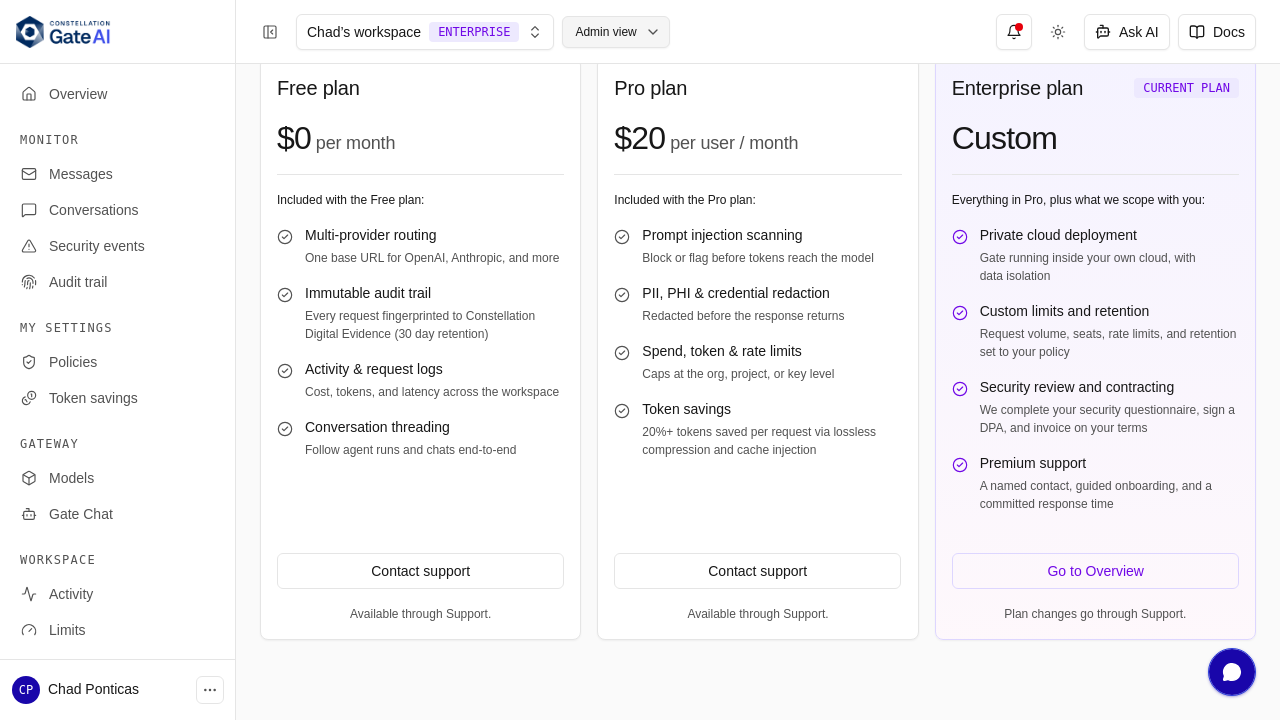
the buttons open a dialog rather than navigating › /billing-enterprise/plans: Contact support opens a dialog
(page scrolled)
Click the button "Contact support" below "Follow agent runs and chats end-to-end" at point(421, 571), box [277,553,564,589]
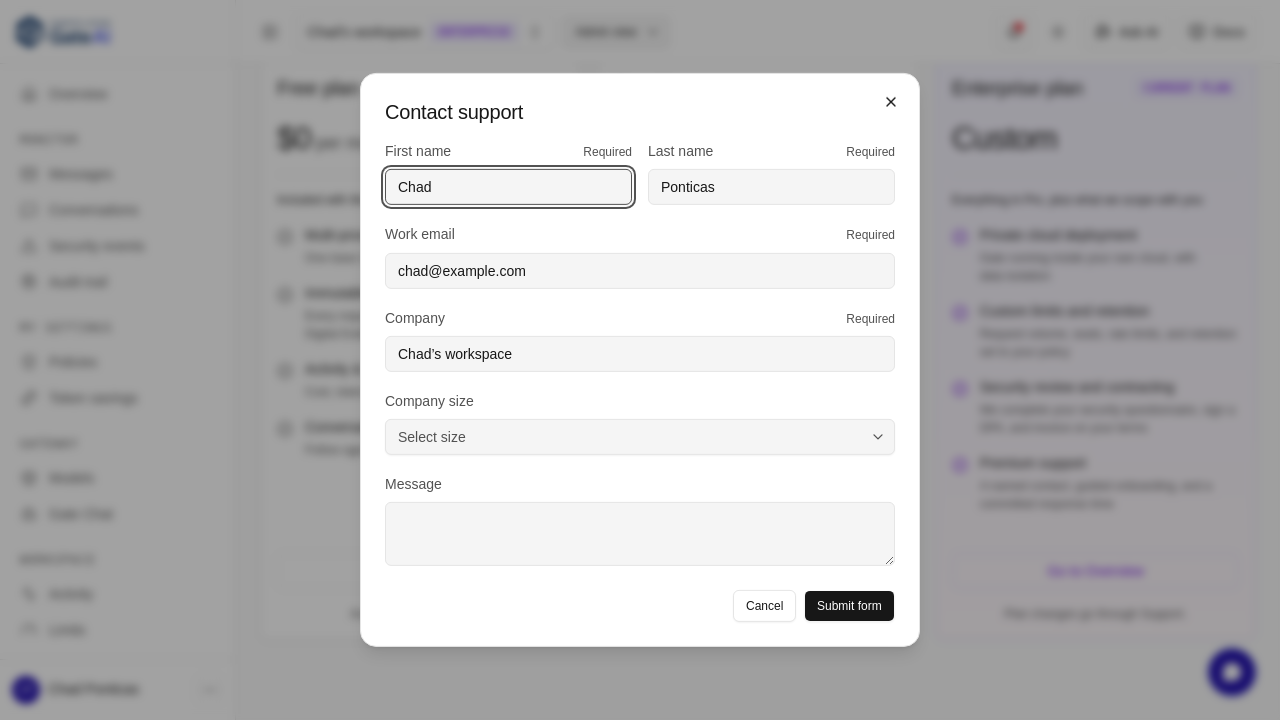
Expected: the dialog is shown, [360,73,920,647]
